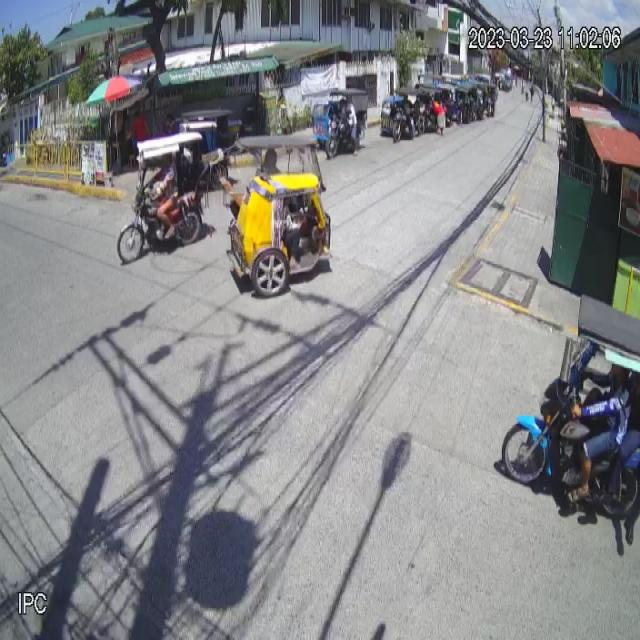Tricycle: (219, 133, 332, 300), (116, 130, 206, 268)
